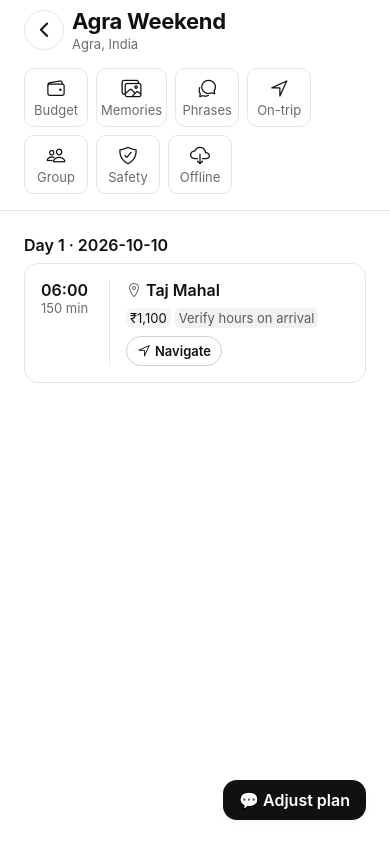
Test case: ItineraryViewScreen › shows a typed error message when the offline download fails
What coordinates should you click on to do the following:
click the button with test id "download-offline-button"
I would click on:
 (200, 164)
Its box is top-left (168, 135), bottom-right (232, 194).
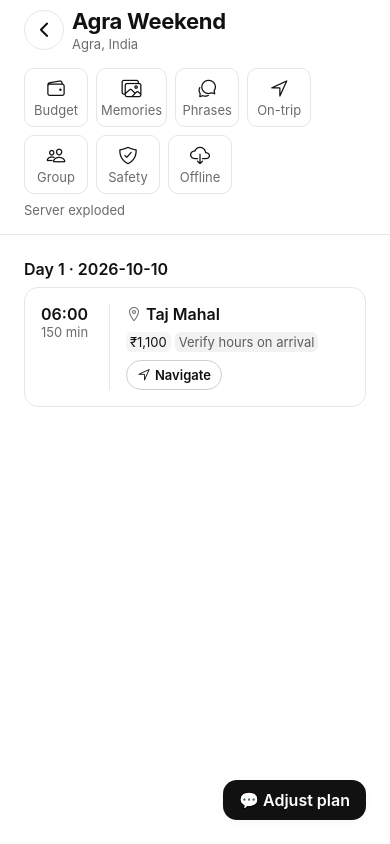
Expected: the text "Server exploded" is shown, top-left (24, 202), bottom-right (125, 218)
